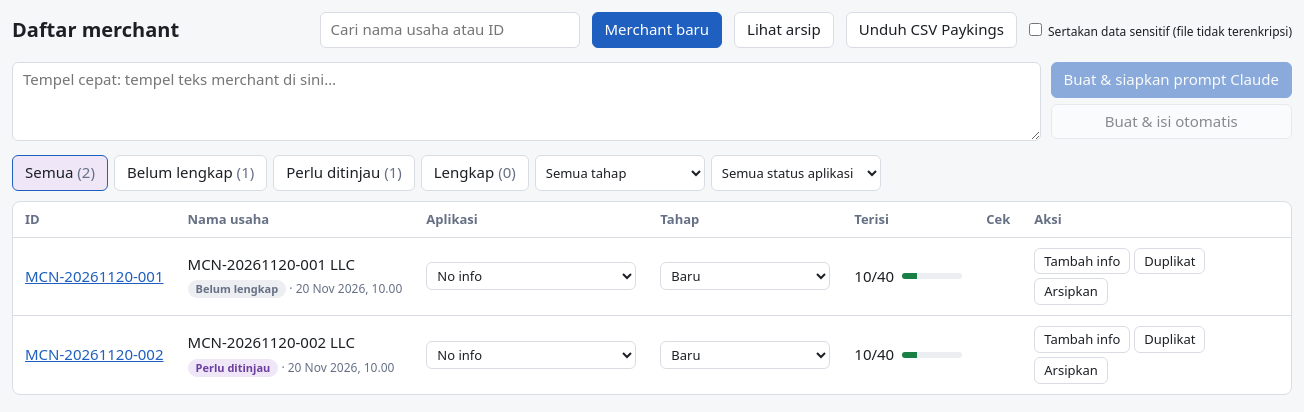
Test: Daftar merchant › shows progress and conflicts, and filters by status
Expected: the text "MCN-20261120-001 LLC" is shown, [188,254,355,274]
Expected: the text "10/40" is shown 2 times, [854,266,962,287]; [854,344,962,366]
Click the button "Perlu ditinjau (1)": (344, 173) [273,155,415,191]
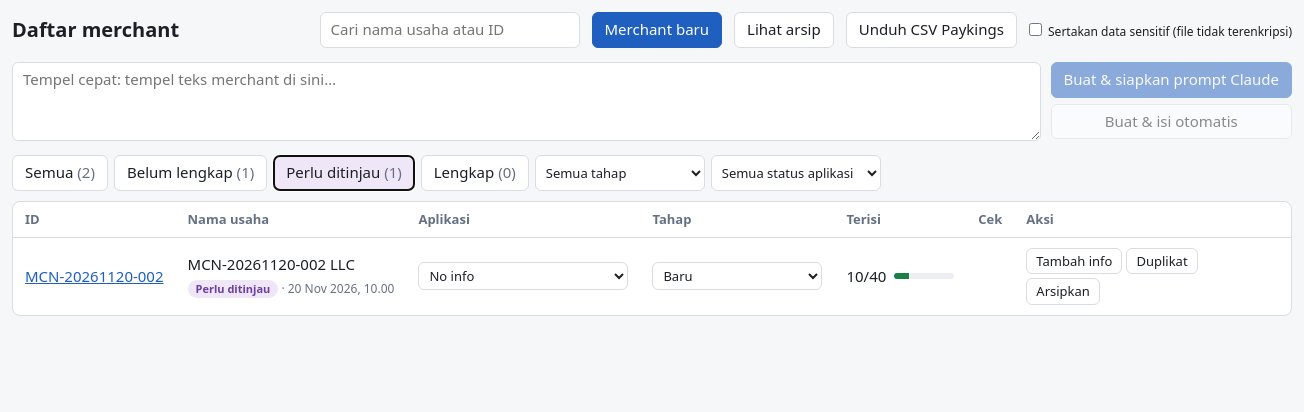
Expected: the text "MCN-20261120-002 LLC" is shown, [188,254,355,274]
Expected: the text "MCN-20261120-001 LLC" is gone
